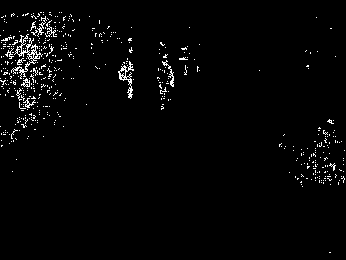person: (156, 54, 175, 113)
